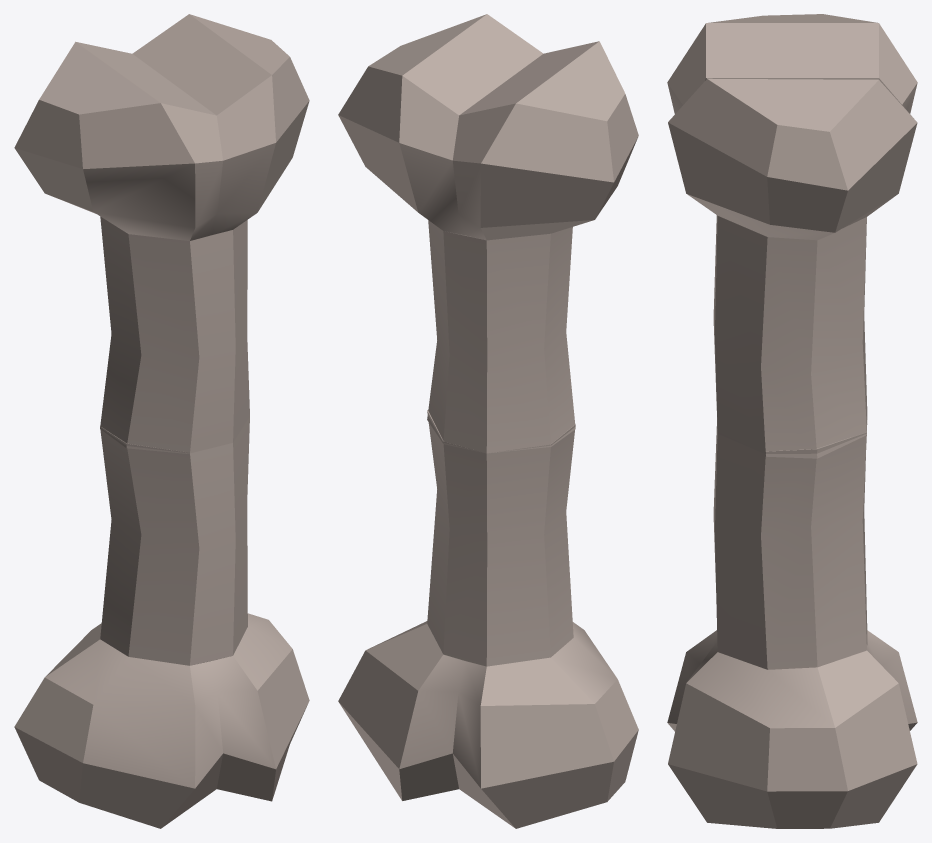
Rendered from bone.fbx.
3 views of the same model, side by side, from view 1: azimuth 30°, elevation 25°; view 2: azimuth 150°, elevation 25°; view 3: azimuth 270°, elevation 25° (orthographic). The views are drawn at different scales.
Parts seen in each view (by area): view 1: Cube; view 2: Cube; view 3: Cube.
Part boxes in pixels (x1,y1,x2,y2): Cube: (14,14,309,828); Cube: (338,14,638,828); Cube: (667,14,917,828).
Bounding box in the file's own units: 0.1709 × 0.4353 × 0.1328.
